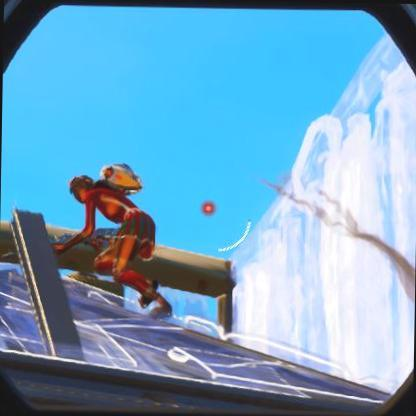person: (50, 162, 164, 319)
